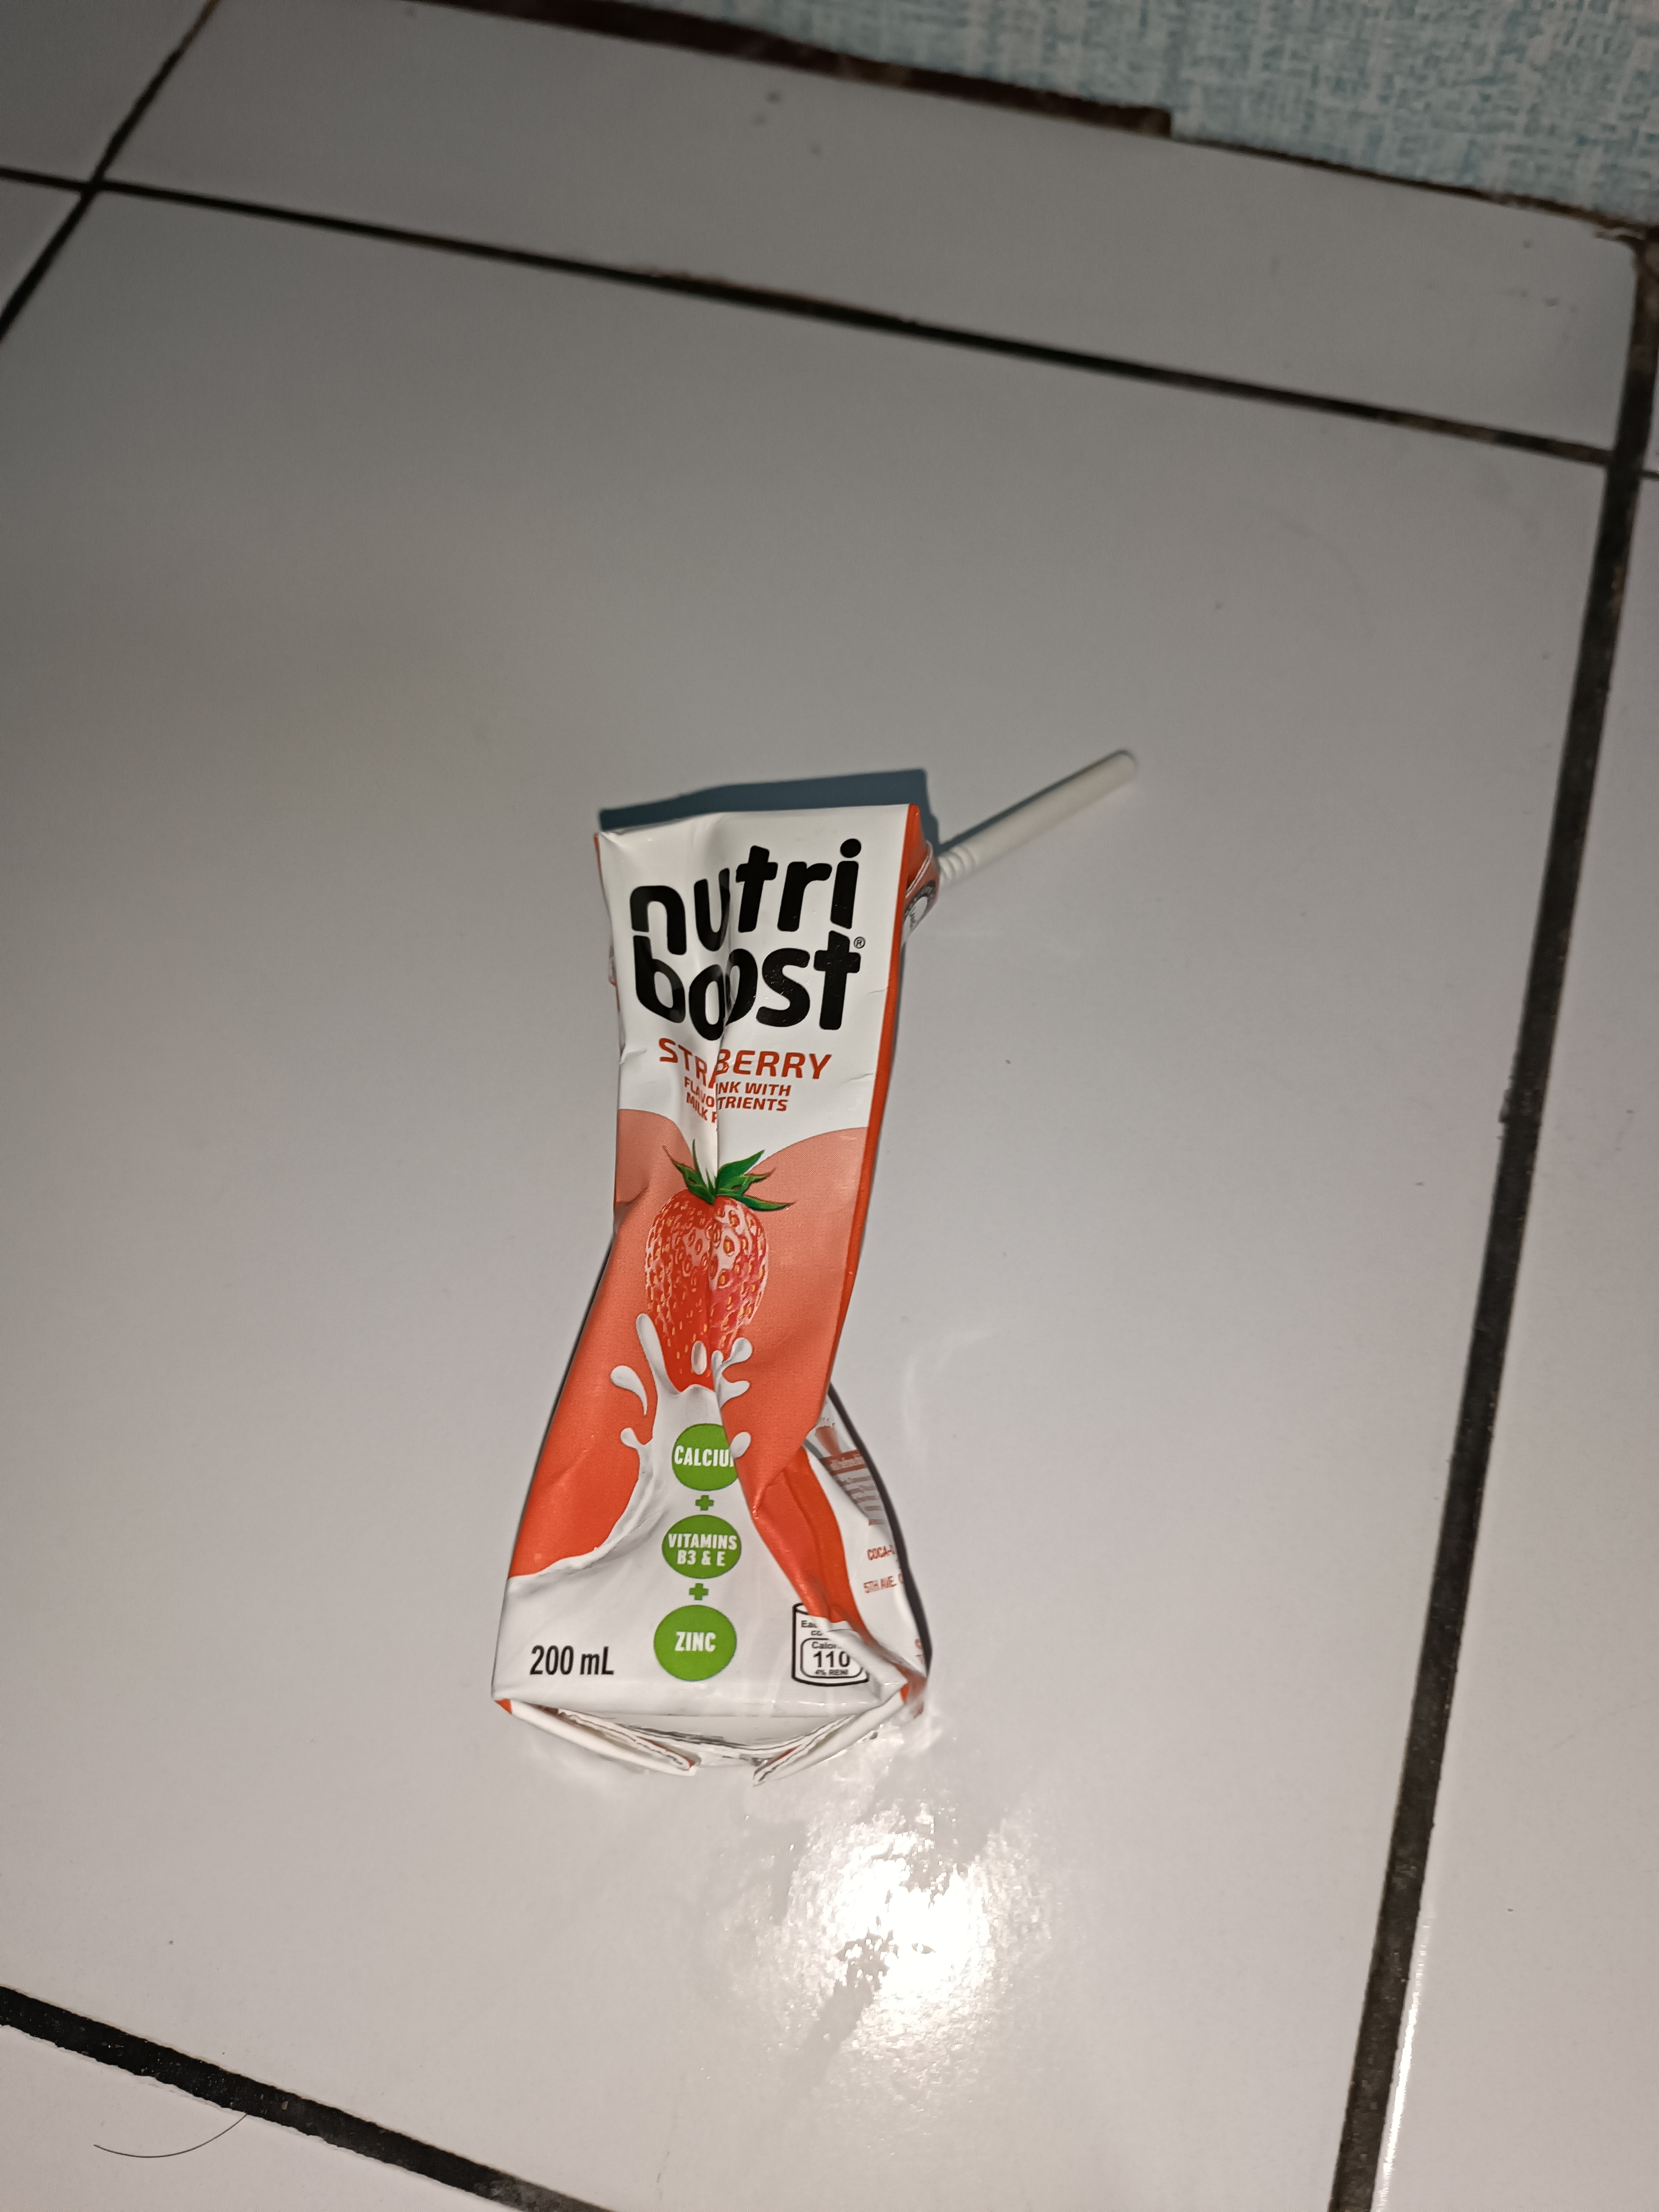Juice Box: (512, 674, 1239, 1803)
